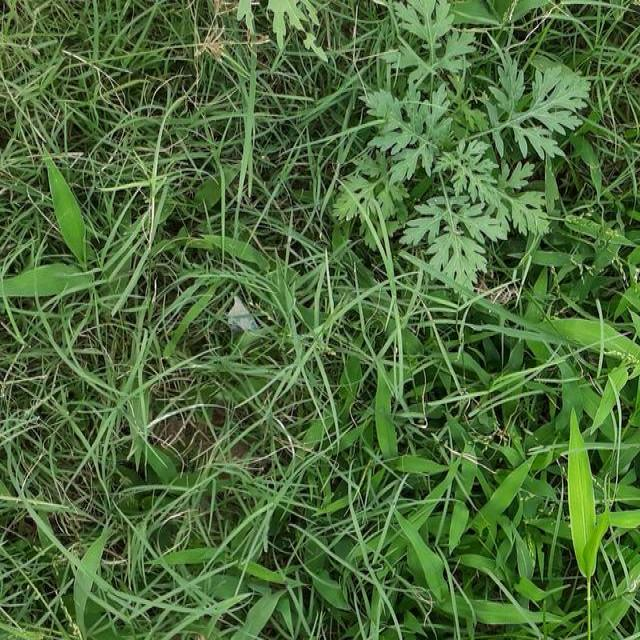weed: (6, 0, 627, 640)
